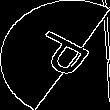P_SE: (17, 26, 93, 84)
